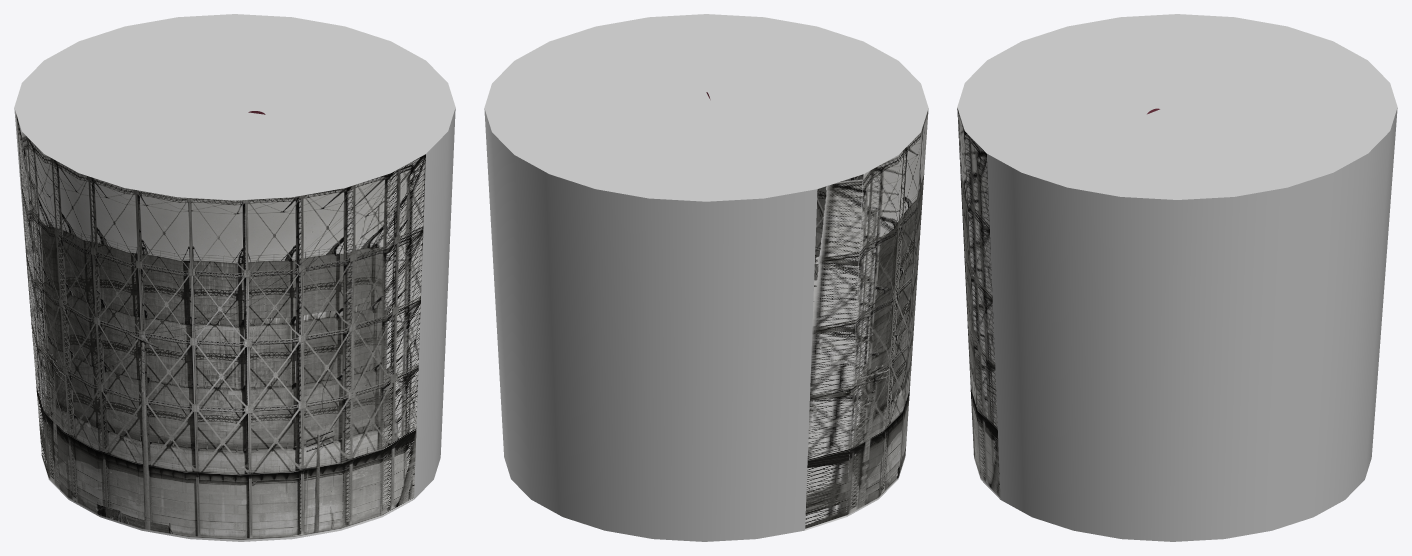
Rendered from Gas Holder Practice.fbx.
3 renders of one model, left to right at view 1: azimuth 30°, elevation 25°; view 2: azimuth 150°, elevation 25°; view 3: azimuth 270°, elevation 25°, orthographic.
Visible parts, largest first — view 1: Model; view 2: Model; view 3: Model.
Boxes of the visible parts, x1,y1,x2,y2 form: Model: (14,14,455,541); Model: (484,14,928,541); Model: (957,14,1397,541).
Size of the model in its own units: 78.83 by 69.45 by 78.83.
